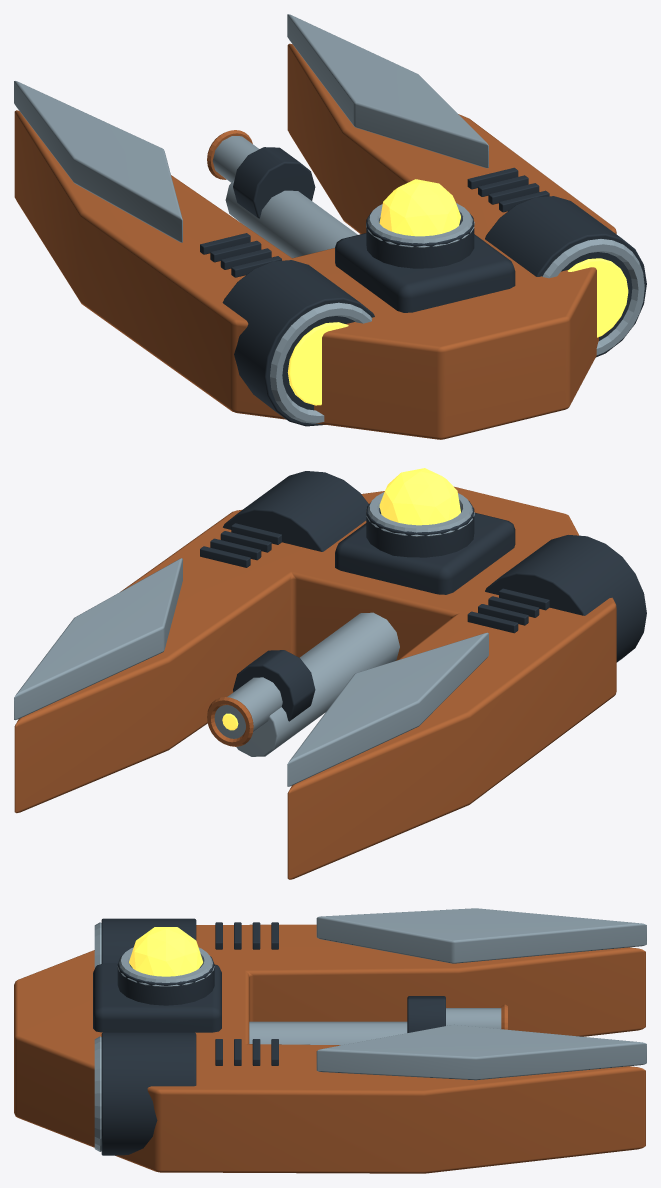
The model's file is kamikazeBoss_ariete.glb.
3 views of the same model, one above another, from view 1: azimuth 30°, elevation 25°; view 2: azimuth 150°, elevation 25°; view 3: azimuth 270°, elevation 25° (orthographic). The views are drawn at different scales.
Parts seen in each view (by area): view 1: kamikazeBoss | ARIETE | armor, kamikazeBoss | Titanium, kamikazeBoss | Graphite chassis, kamikazeBoss | ARIETE | energy; view 2: kamikazeBoss | ARIETE | armor, kamikazeBoss | Titanium, kamikazeBoss | Graphite chassis, kamikazeBoss | ARIETE | energy; view 3: kamikazeBoss | ARIETE | armor, kamikazeBoss | Titanium, kamikazeBoss | Graphite chassis, kamikazeBoss | ARIETE | energy.
Boxes of the visible parts, left/top/right/bottom form: kamikazeBoss | ARIETE | armor: left=14, top=43, right=616, bottom=439; kamikazeBoss | Titanium: left=14, top=14, right=644, bottom=423; kamikazeBoss | Graphite chassis: left=200, top=147, right=646, bottom=426; kamikazeBoss | ARIETE | energy: left=287, top=179, right=628, bottom=405; kamikazeBoss | ARIETE | armor: left=14, top=486, right=616, bottom=879; kamikazeBoss | Titanium: left=14, top=492, right=488, bottom=786; kamikazeBoss | Graphite chassis: left=200, top=471, right=646, bottom=721; kamikazeBoss | ARIETE | energy: left=222, top=468, right=460, bottom=730; kamikazeBoss | ARIETE | armor: left=14, top=924, right=645, bottom=1173; kamikazeBoss | Titanium: left=94, top=908, right=646, bottom=1151; kamikazeBoss | Graphite chassis: left=93, top=918, right=445, bottom=1155; kamikazeBoss | ARIETE | energy: left=129, top=927, right=203, bottom=976.
Size of the model in its own units: 1.4 by 0.633 by 2.21.
